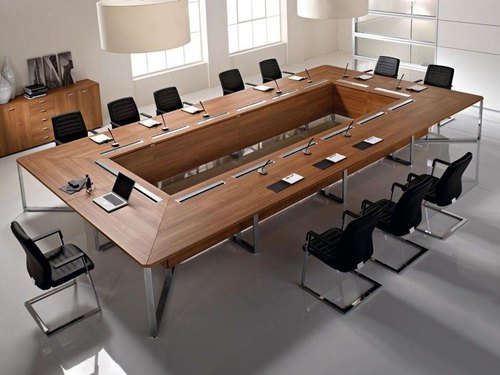conference_table: (17, 65, 484, 336)
